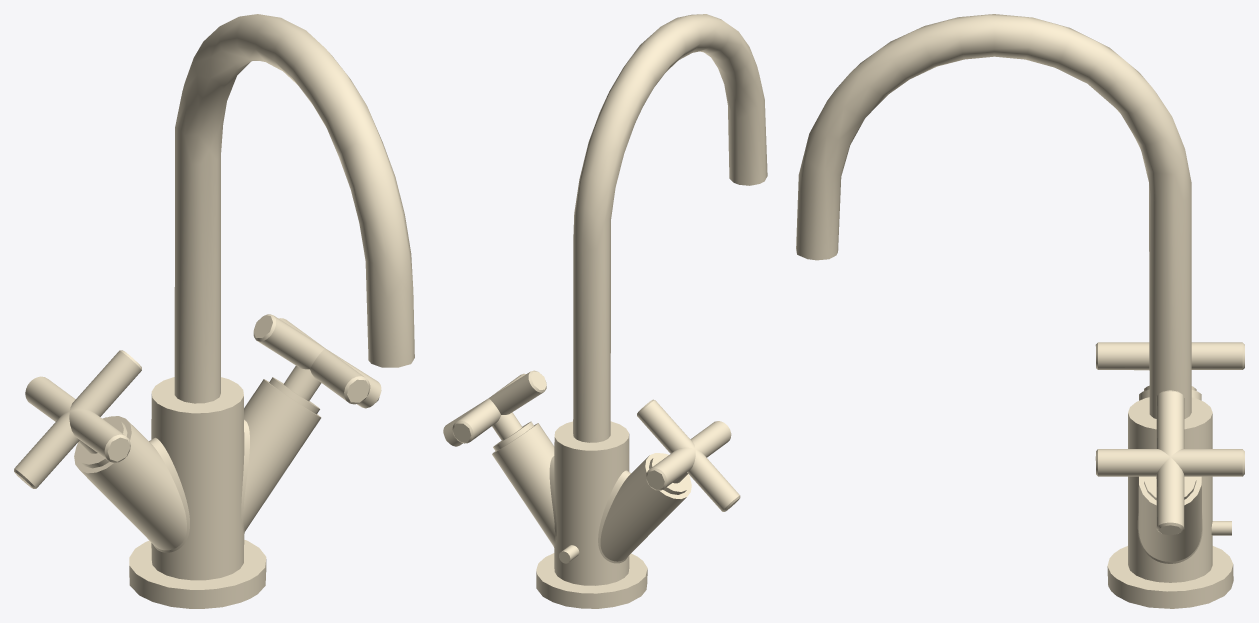
3 renders of one model, left to right at view 1: azimuth 30°, elevation 25°; view 2: azimuth 150°, elevation 25°; view 3: azimuth 270°, elevation 25°, orthographic. The views are drawn at different scales.
Parts seen in each view (by area): view 1: L_85eb14ae_3e29_46f2_87a0_adb121c5a3f2_I3, L_d3dcbb2b_4c44_437a_949d_012641e3e39b_I7, L_371058ef_0f02_43a9_b4b8_7bc3ba85c9c8_I1, L_aebabbb1_322c_48e3_8798_877ce0681c3e_I4, L_d9a1821b_6350_4af8_81e9_f33a4fe3cdb1_I8, L_b1cc2468_1b43_49ec_a76c_5935a66f385f_I6; view 2: L_85eb14ae_3e29_46f2_87a0_adb121c5a3f2_I3, L_d3dcbb2b_4c44_437a_949d_012641e3e39b_I7, L_371058ef_0f02_43a9_b4b8_7bc3ba85c9c8_I1, L_aebabbb1_322c_48e3_8798_877ce0681c3e_I4, L_d9a1821b_6350_4af8_81e9_f33a4fe3cdb1_I8, L_b1cc2468_1b43_49ec_a76c_5935a66f385f_I6; view 3: L_85eb14ae_3e29_46f2_87a0_adb121c5a3f2_I3, L_d3dcbb2b_4c44_437a_949d_012641e3e39b_I7, L_aebabbb1_322c_48e3_8798_877ce0681c3e_I4, L_d9a1821b_6350_4af8_81e9_f33a4fe3cdb1_I8, L_371058ef_0f02_43a9_b4b8_7bc3ba85c9c8_I1.
Part boxes in pixels (x1=…): L_85eb14ae_3e29_46f2_87a0_adb121c5a3f2_I3: x1=174, y1=14, x2=414, y2=403; L_d3dcbb2b_4c44_437a_949d_012641e3e39b_I7: x1=74, y1=377, x2=321, y2=580; L_371058ef_0f02_43a9_b4b8_7bc3ba85c9c8_I1: x1=14, y1=350, x2=141, y2=488; L_aebabbb1_322c_48e3_8798_877ce0681c3e_I4: x1=253, y1=314, x2=381, y2=408; L_d9a1821b_6350_4af8_81e9_f33a4fe3cdb1_I8: x1=129, y1=540, x2=266, y2=608; L_b1cc2468_1b43_49ec_a76c_5935a66f385f_I6: x1=76, y1=417, x2=127, y2=468; L_85eb14ae_3e29_46f2_87a0_adb121c5a3f2_I3: x1=573, y1=14, x2=767, y2=442; L_d3dcbb2b_4c44_437a_949d_012641e3e39b_I7: x1=492, y1=421, x2=691, y2=585; L_371058ef_0f02_43a9_b4b8_7bc3ba85c9c8_I1: x1=637, y1=399, x2=740, y2=511; L_aebabbb1_322c_48e3_8798_877ce0681c3e_I4: x1=443, y1=370, x2=546, y2=446; L_d9a1821b_6350_4af8_81e9_f33a4fe3cdb1_I8: x1=536, y1=553, x2=647, y2=608; L_b1cc2468_1b43_49ec_a76c_5935a66f385f_I6: x1=649, y1=453, x2=690, y2=494; L_85eb14ae_3e29_46f2_87a0_adb121c5a3f2_I3: x1=796, y1=14, x2=1191, y2=418; L_d3dcbb2b_4c44_437a_949d_012641e3e39b_I7: x1=1128, y1=389, x2=1212, y2=582; L_aebabbb1_322c_48e3_8798_877ce0681c3e_I4: x1=1095, y1=390, x2=1244, y2=535; L_d9a1821b_6350_4af8_81e9_f33a4fe3cdb1_I8: x1=1107, y1=546, x2=1233, y2=608; L_371058ef_0f02_43a9_b4b8_7bc3ba85c9c8_I1: x1=1095, y1=342, x2=1244, y2=370.
Size of the model in its own units: 0.1794 by 0.2936 by 0.2108.
